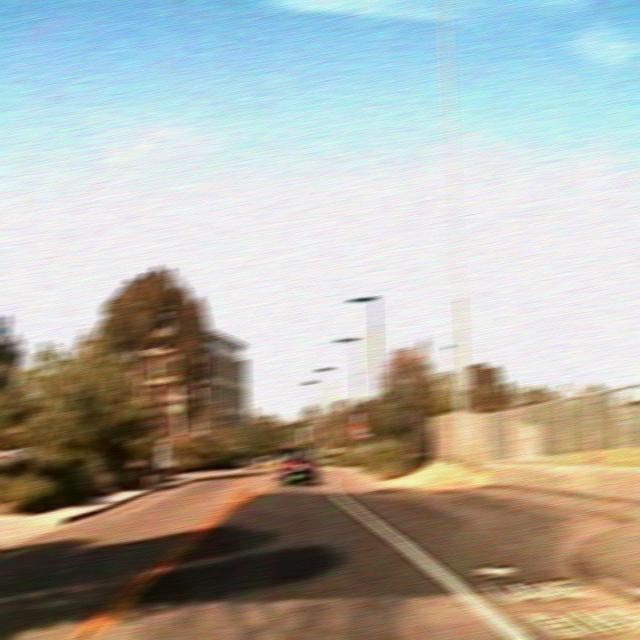stop_sign: (350, 423, 366, 437)
